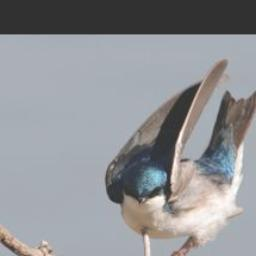Swallow: (104, 56, 256, 256)
